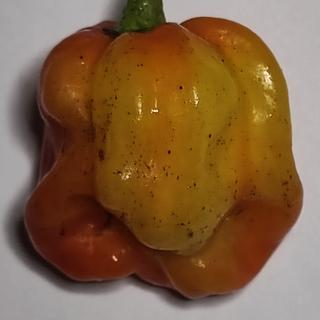Fly-bites: (72, 47, 92, 64), (106, 91, 128, 106), (181, 221, 197, 240), (199, 201, 218, 214), (174, 82, 190, 97), (187, 177, 204, 191), (115, 71, 131, 85), (136, 62, 149, 75), (205, 130, 214, 148), (98, 146, 106, 166), (163, 147, 176, 159), (219, 54, 229, 68), (124, 110, 136, 121)
